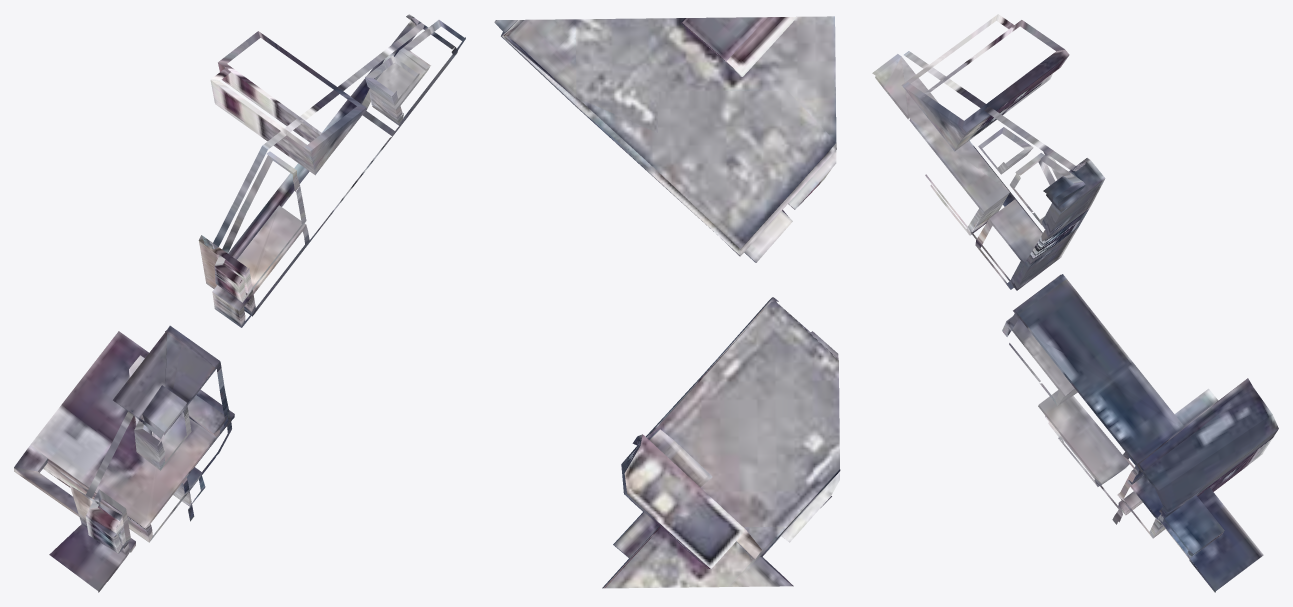
The picture shows the model from 3 angles, left to right: view 1: azimuth 30°, elevation 25°; view 2: azimuth 150°, elevation 25°; view 3: azimuth 270°, elevation 25°; orthographic projection. The views are drawn at different scales.
Size of the model in its own units: 27.89 by 38.6 by 26.39.
Materials: 1 (1 with a texture image).
